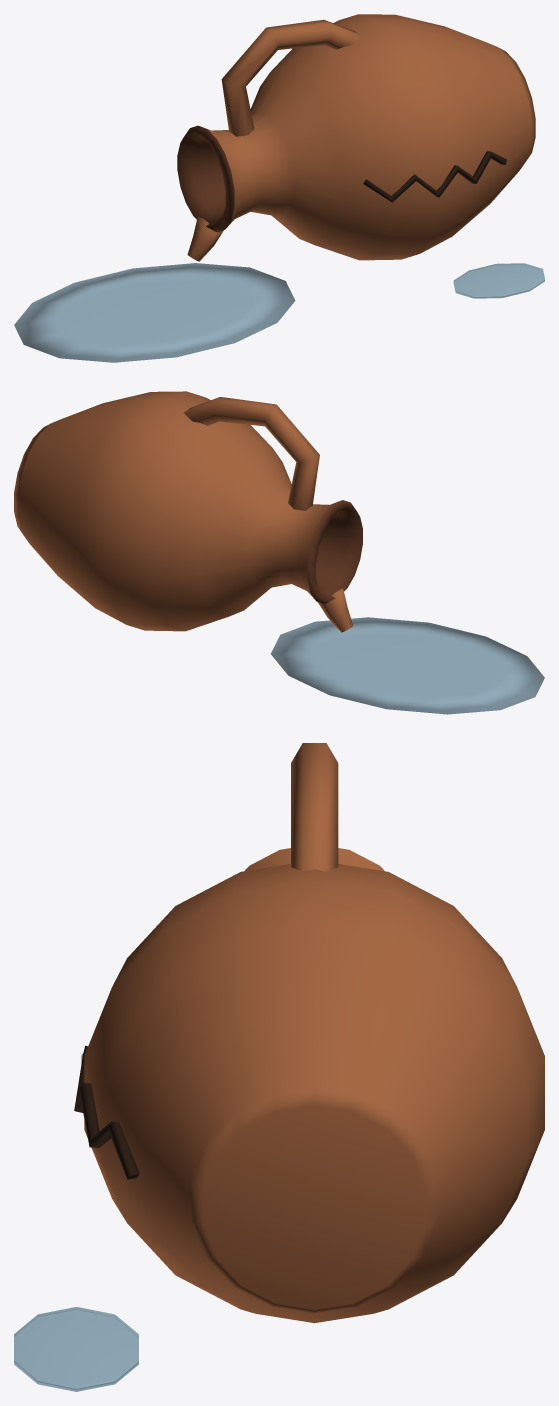
The model's file is obj-kuvshin-tresnuvshiy.glb.
3 views of the same model, one above another, from view 1: azimuth 30°, elevation 25°; view 2: azimuth 150°, elevation 25°; view 3: azimuth 270°, elevation 25° (orthographic). The views are drawn at different scales.
Visible parts, largest first — view 1: obj-kuvshin-tresnuvshiy; view 2: obj-kuvshin-tresnuvshiy; view 3: obj-kuvshin-tresnuvshiy.
Boxes of the visible parts, bbox=[...] form: obj-kuvshin-tresnuvshiy: bbox=[14, 14, 544, 362]; obj-kuvshin-tresnuvshiy: bbox=[14, 391, 544, 714]; obj-kuvshin-tresnuvshiy: bbox=[14, 743, 544, 1391].
Bounding box in the file's own units: 0.49 × 0.2351 × 0.2452.
